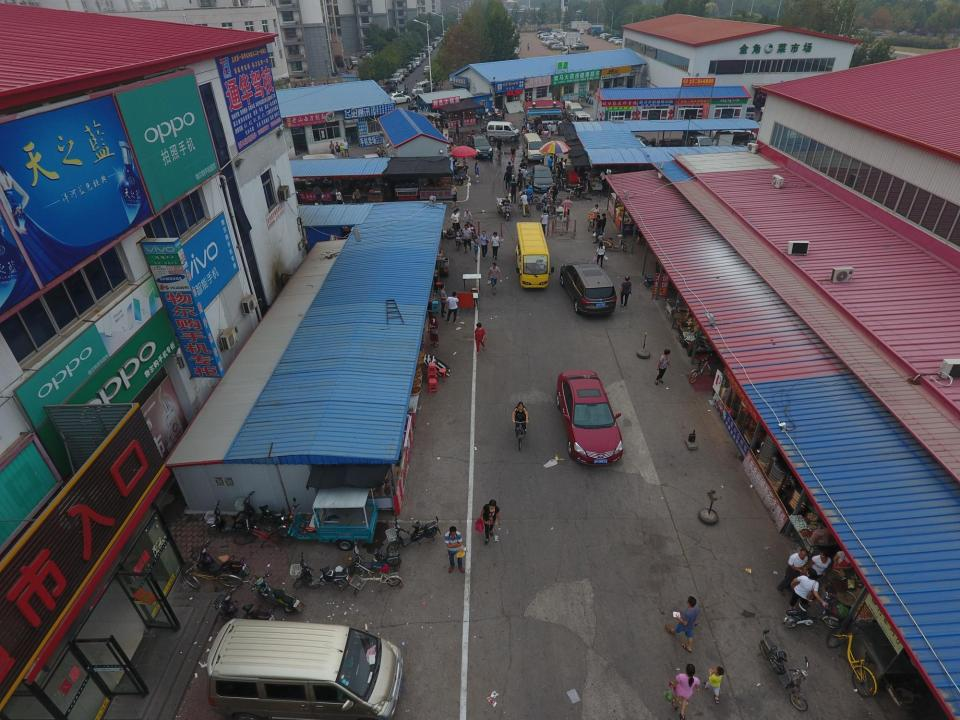bus: (515, 222, 554, 288)
car: (556, 370, 622, 465), (714, 121, 756, 140), (530, 164, 555, 191), (386, 93, 411, 105), (394, 84, 408, 95), (383, 81, 397, 90), (571, 44, 589, 50), (550, 31, 568, 37), (537, 32, 553, 38), (550, 44, 565, 50), (556, 34, 574, 39), (613, 39, 628, 45), (539, 34, 553, 40), (571, 44, 584, 50), (543, 38, 556, 44), (535, 30, 548, 36), (400, 68, 409, 76), (541, 40, 553, 46), (602, 34, 614, 40), (600, 32, 612, 38), (608, 37, 622, 42), (543, 37, 556, 42), (406, 62, 416, 68), (546, 40, 556, 46), (544, 40, 555, 45), (423, 49, 431, 55), (426, 46, 434, 52), (419, 52, 425, 59), (431, 42, 437, 48), (433, 41, 438, 47), (580, 29, 584, 35)
truck: (608, 136, 653, 156), (526, 101, 574, 116), (560, 46, 591, 56), (570, 21, 592, 31), (560, 33, 580, 43), (564, 37, 582, 47), (586, 25, 604, 35), (590, 26, 605, 36), (605, 32, 621, 41), (576, 24, 594, 32), (535, 26, 552, 34), (592, 29, 608, 36)
van: (206, 618, 403, 720), (559, 262, 617, 314), (681, 130, 715, 154), (486, 121, 520, 142), (522, 133, 545, 162), (467, 134, 493, 159), (302, 154, 342, 168), (360, 153, 382, 171), (738, 99, 756, 121), (414, 112, 441, 126), (570, 111, 590, 128), (566, 103, 583, 121), (411, 81, 431, 96), (424, 75, 438, 90), (375, 85, 390, 96), (414, 87, 426, 99), (390, 73, 402, 84), (395, 69, 405, 81), (402, 63, 414, 73), (548, 29, 564, 36), (549, 42, 563, 49), (412, 57, 421, 67), (414, 54, 424, 63), (349, 56, 358, 66), (547, 41, 559, 48), (423, 65, 431, 74), (419, 50, 428, 56), (432, 38, 439, 45), (428, 42, 435, 48), (435, 37, 441, 43)
